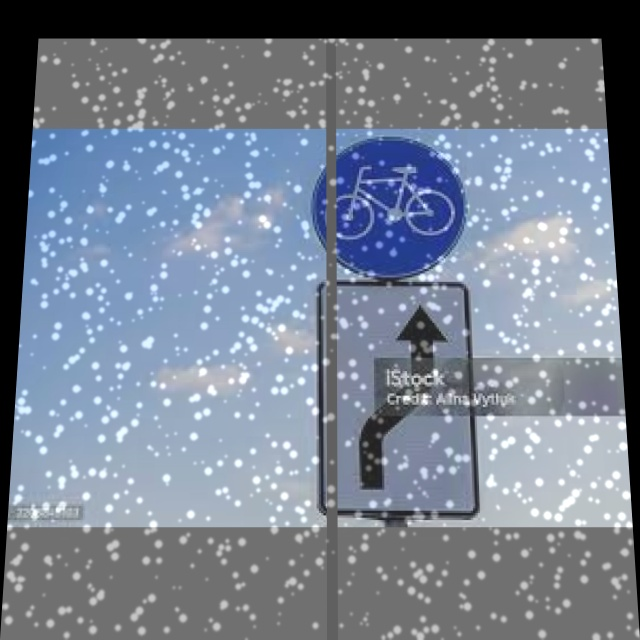Compulsory_Cycle_Track: (311, 138, 472, 277)
